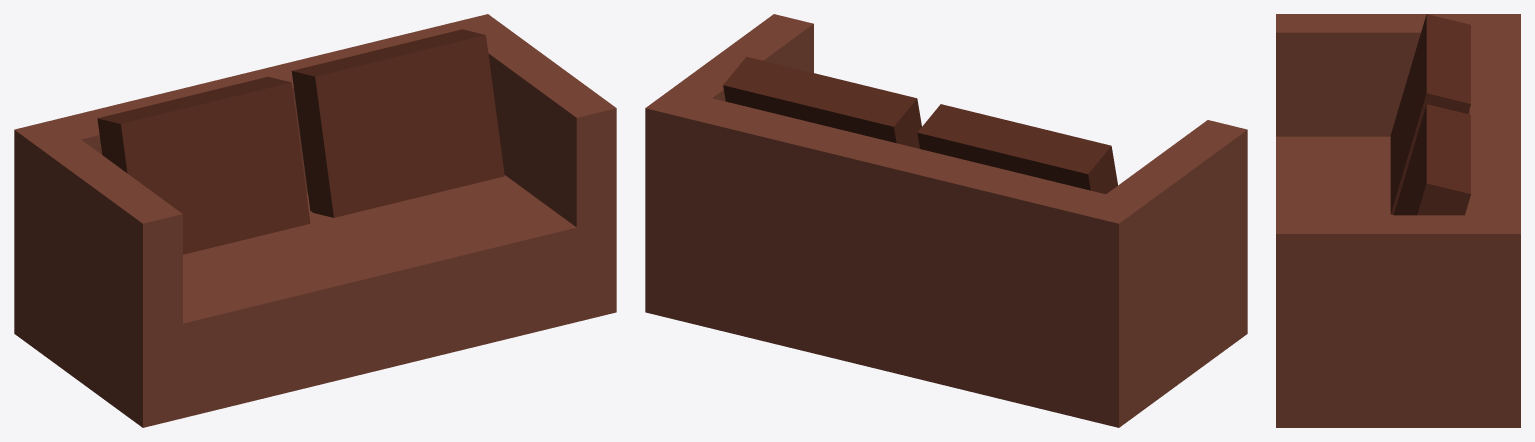
The model's file is couch.fbx.
The picture shows the model from 3 angles, left to right: view 1: azimuth 30°, elevation 25°; view 2: azimuth 150°, elevation 25°; view 3: azimuth 270°, elevation 25°; orthographic projection. The views are drawn at different scales.
Parts seen in each view (by area): view 1: polySurface2; view 2: polySurface2; view 3: polySurface2.
Part boxes in pixels (x1,y1,x2,y2): polySurface2: (14, 14, 616, 427); polySurface2: (645, 14, 1247, 427); polySurface2: (1276, 14, 1520, 427).
Bounding box in the file's own units: 21.25 × 9.95 × 10.
1 material, 1 textured.
